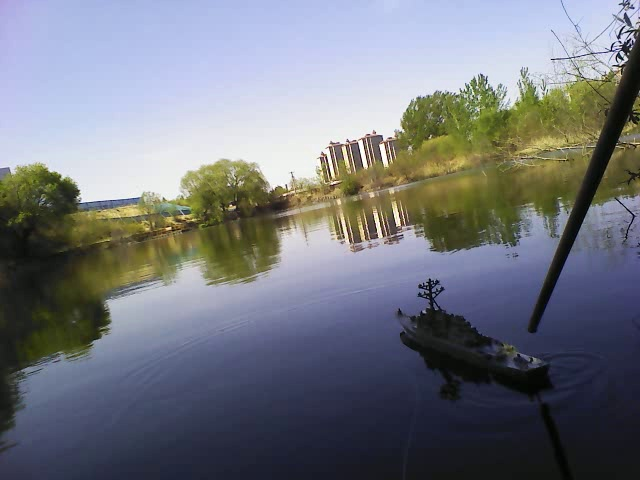warship: (387, 279, 557, 388)
